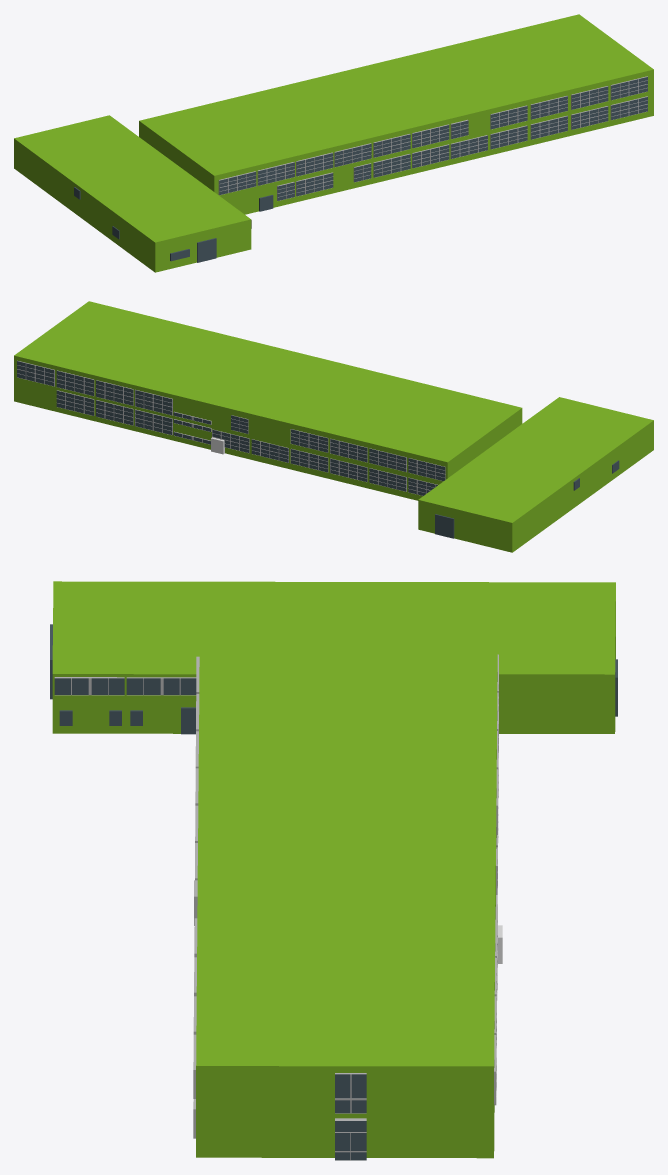
3 views of the same model, one above another, from view 1: azimuth 30°, elevation 25°; view 2: azimuth 150°, elevation 25°; view 3: azimuth 270°, elevation 25° (orthographic). The views are drawn at different scales.
Parts seen in each view (by area): view 1: A15; view 2: A15; view 3: A15, Entrance.2.
Boxes of the visible parts, x1,y1,x2,y2 form: A15: (14,14,653,272); A15: (14,301,653,552); A15: (50,581,617,1158); Entrance.2: (335,1118,366,1160).
Size of the model in its own units: 85.16 by 7 by 39.29.
